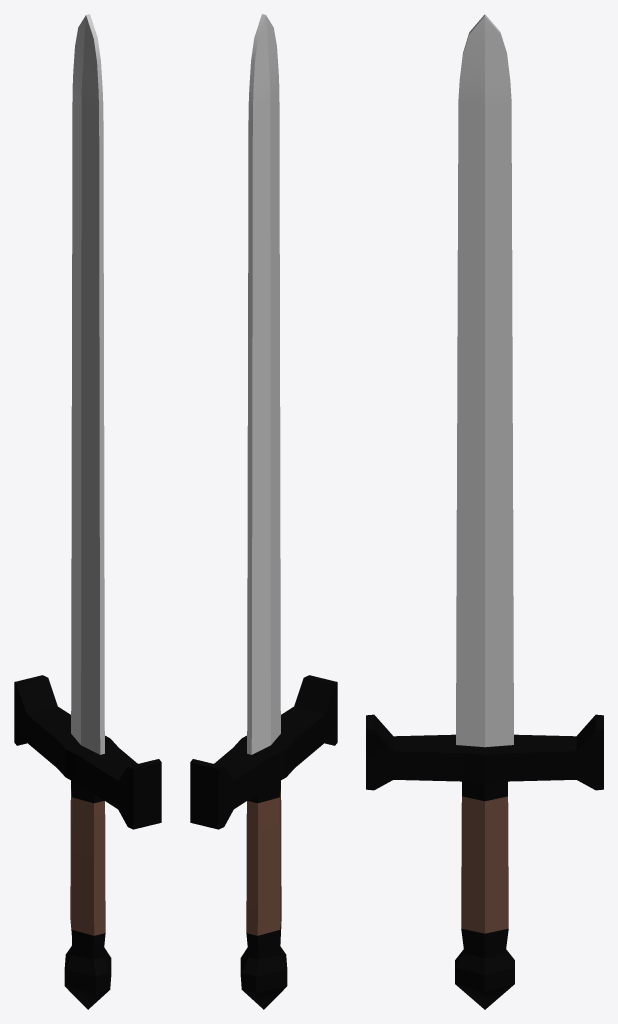
The model's file is treasure_chest_sword.fbx.
3 renders of one model, left to right at view 1: azimuth 30°, elevation 25°; view 2: azimuth 150°, elevation 25°; view 3: azimuth 270°, elevation 25°, orthographic.
Parts seen in each view (by area): view 1: treasure_chest_sword; view 2: treasure_chest_sword; view 3: treasure_chest_sword.
Part boxes in pixels (bbox=[...]): treasure_chest_sword: bbox=[14, 14, 161, 1009]; treasure_chest_sword: bbox=[190, 14, 337, 1009]; treasure_chest_sword: bbox=[366, 14, 603, 1009].
Size of the model in its own units: 4.86 by 99.04 by 21.45.
